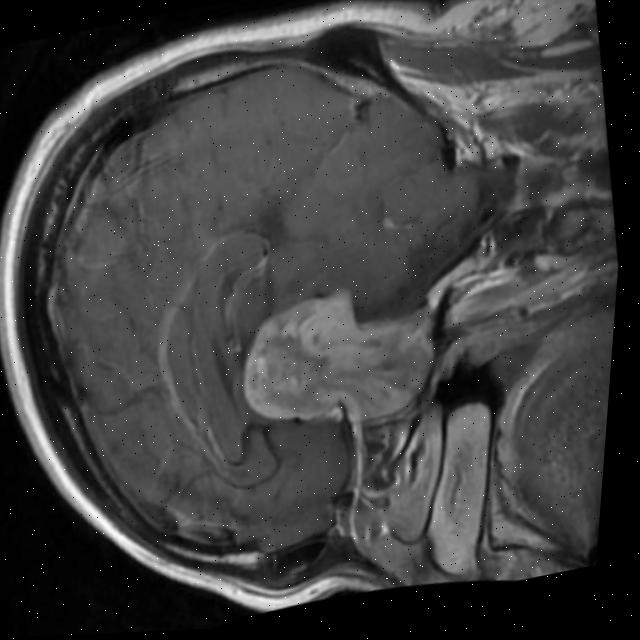Pituitary: (226, 269, 450, 442)
